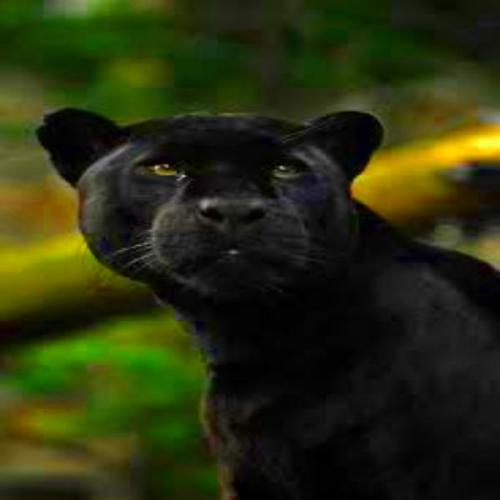panther-endangered: (35, 107, 500, 500)
